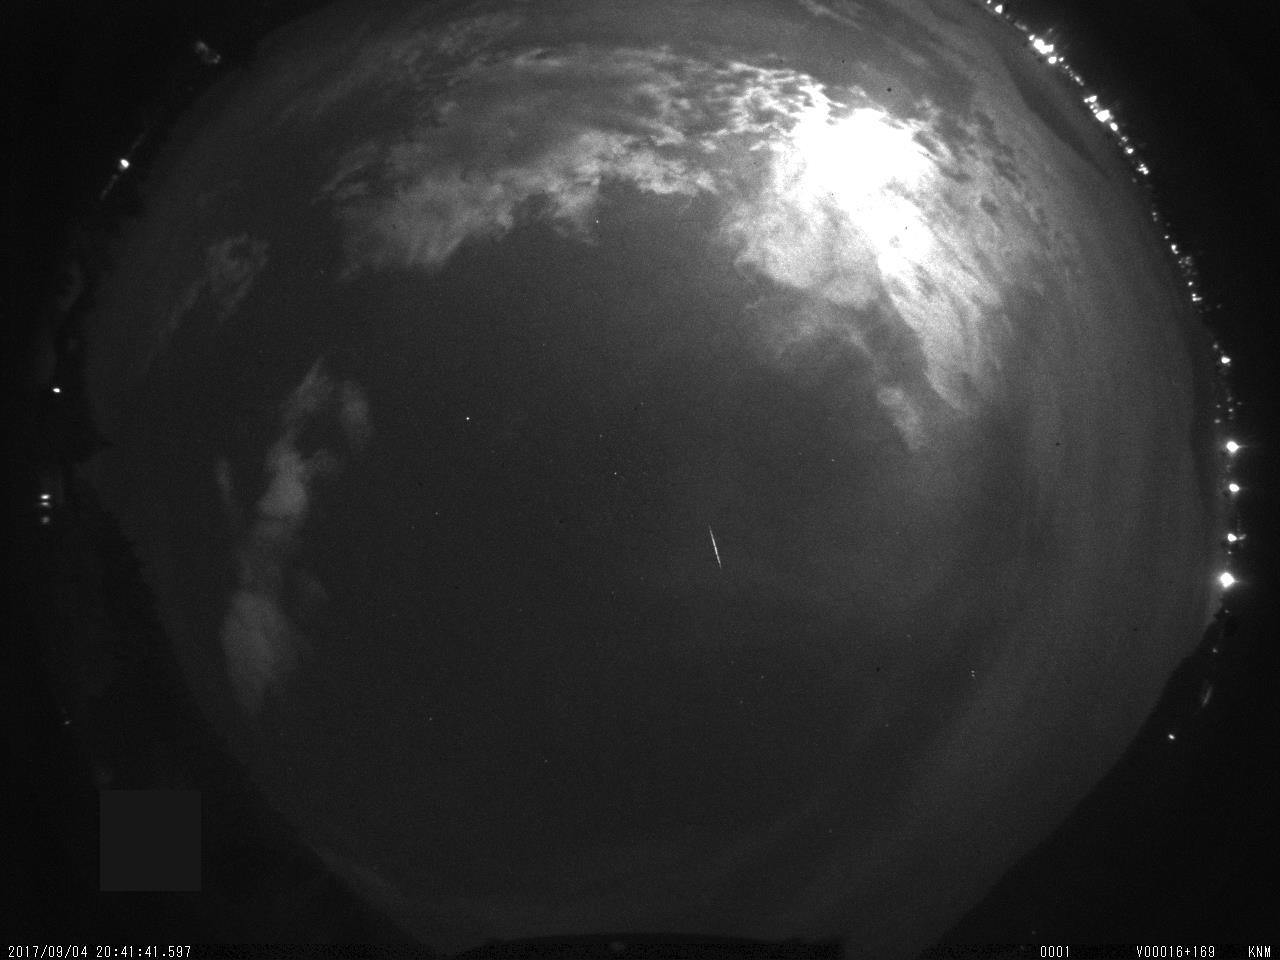meteor: (687, 507, 752, 589)
